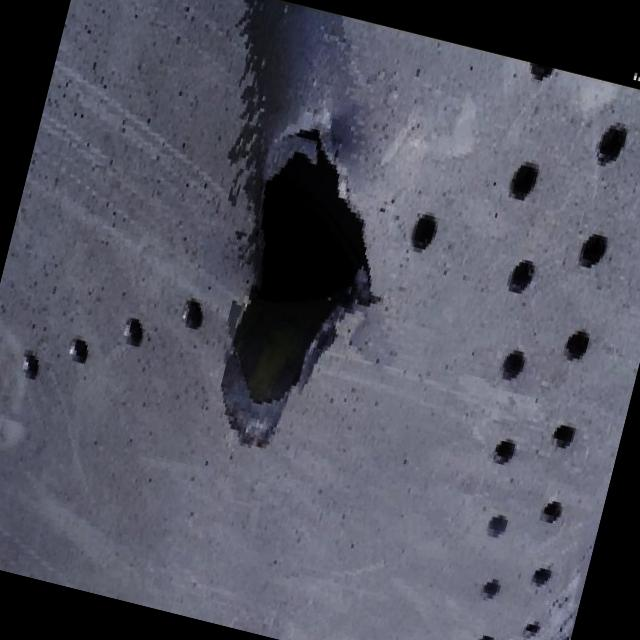crack: (188, 102, 422, 472)
